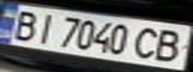0: (109, 21, 133, 56), (75, 17, 96, 52)
4: (90, 20, 115, 55)
7: (54, 15, 81, 49)
B: (148, 26, 190, 63), (3, 7, 42, 42)
C: (130, 25, 166, 61)
I: (30, 10, 60, 45)
